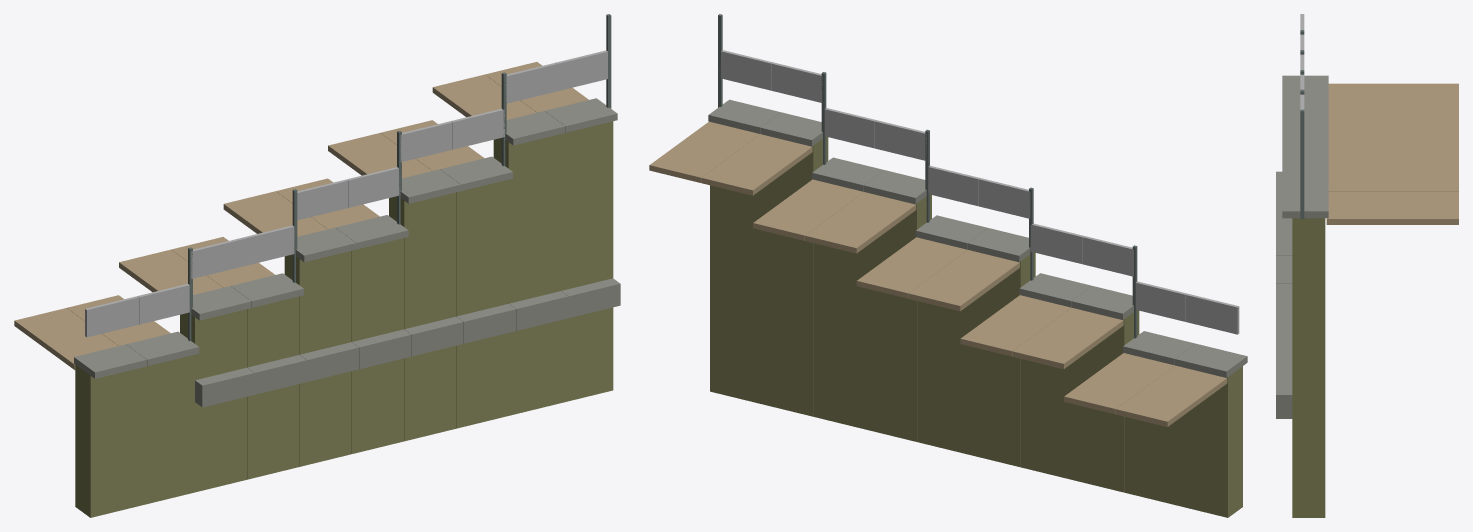
File: SM_MuroRampa_v4_Escalonado_e0_Sano_LOD1.fbx
3 views of the same model, side by side, from view 1: azimuth 30°, elevation 25°; view 2: azimuth 150°, elevation 25°; view 3: azimuth 270°, elevation 25° (orthographic). The views are drawn at different scales.
Visible parts, largest first — view 1: SM_muro_rampa_v16_LOD1; view 2: SM_muro_rampa_v16_LOD1; view 3: SM_muro_rampa_v16_LOD1.
Boxes of the visible parts, x1=… form: SM_muro_rampa_v16_LOD1: x1=14, y1=14, x2=620, y2=517; SM_muro_rampa_v16_LOD1: x1=649, y1=14, x2=1247, y2=517; SM_muro_rampa_v16_LOD1: x1=1276, y1=14, x2=1458, y2=517.
Size of the model in its own units: 10.03 by 6.8 by 2.77.
